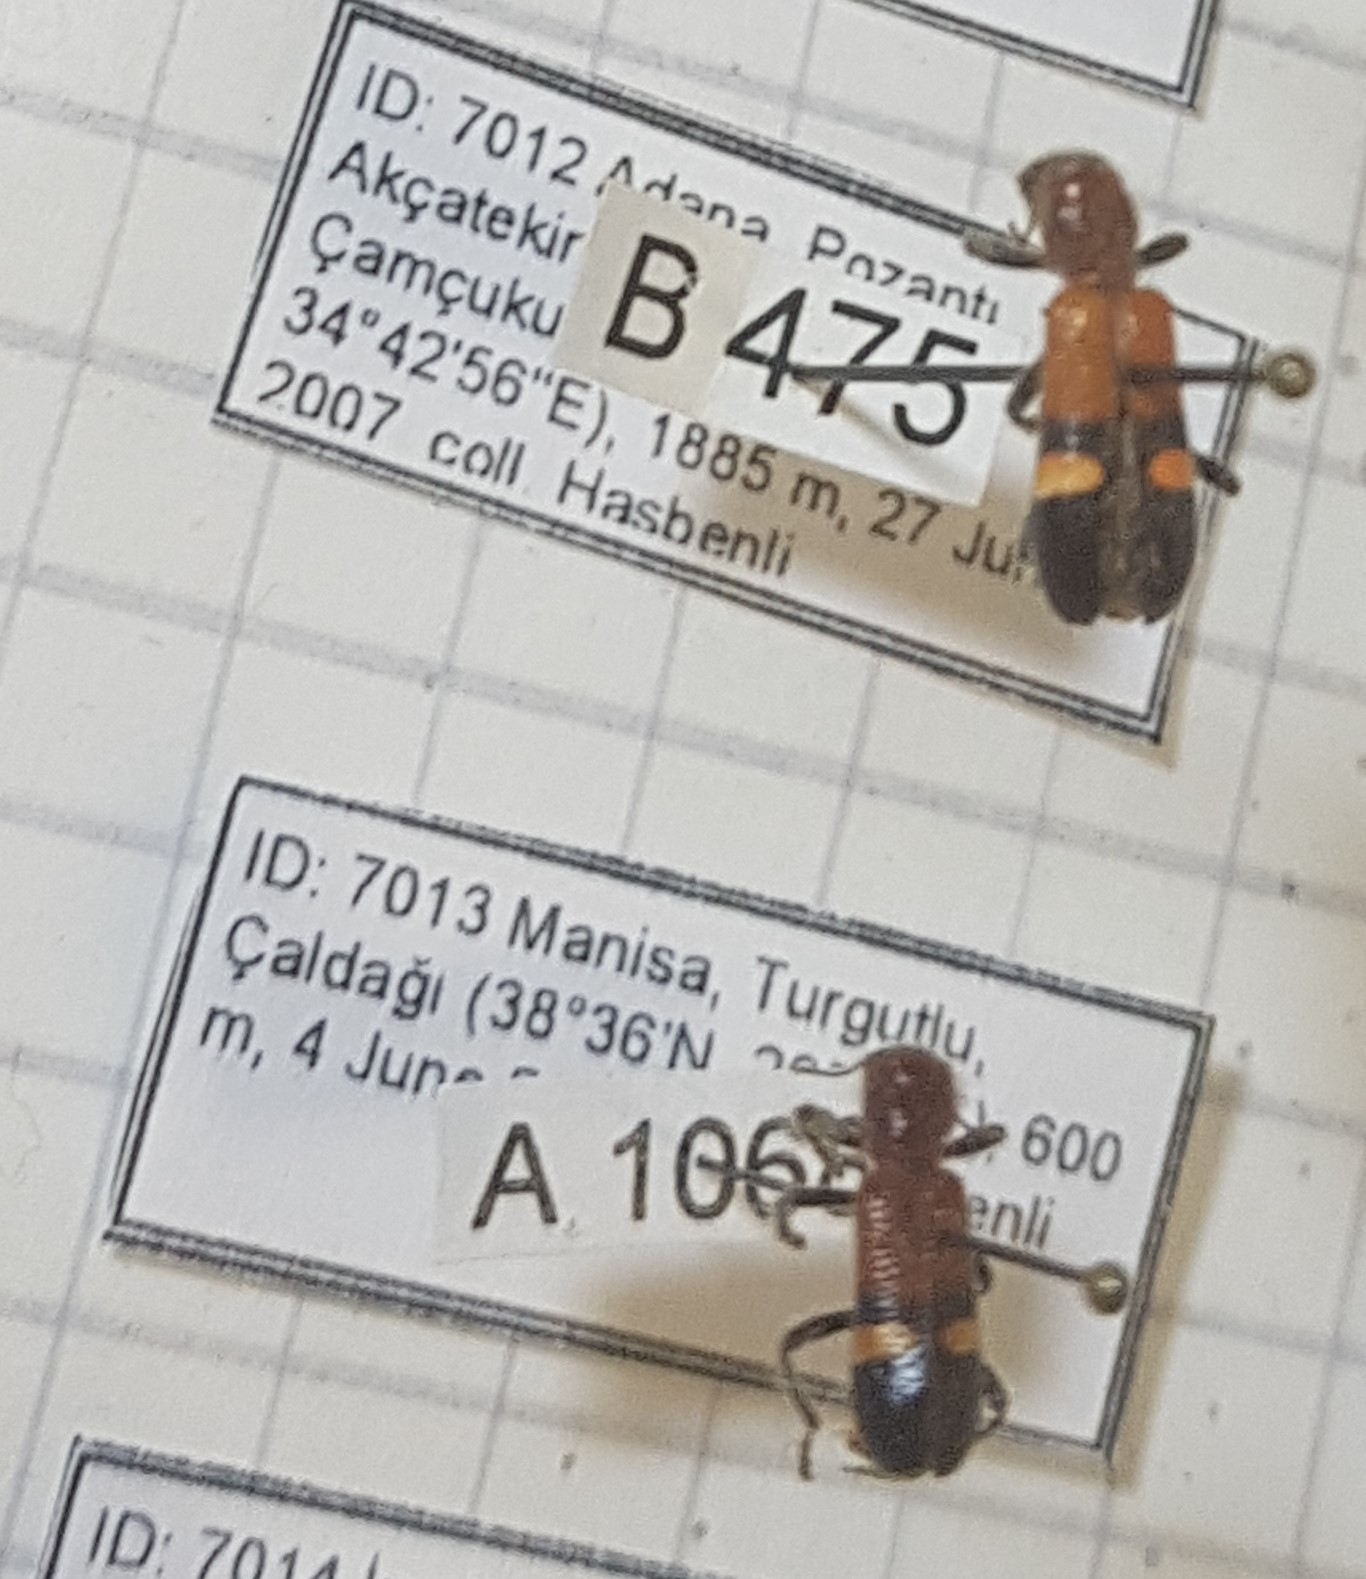opilo_taeniatus: (1007, 148, 1255, 657), (782, 1033, 1019, 1498)
